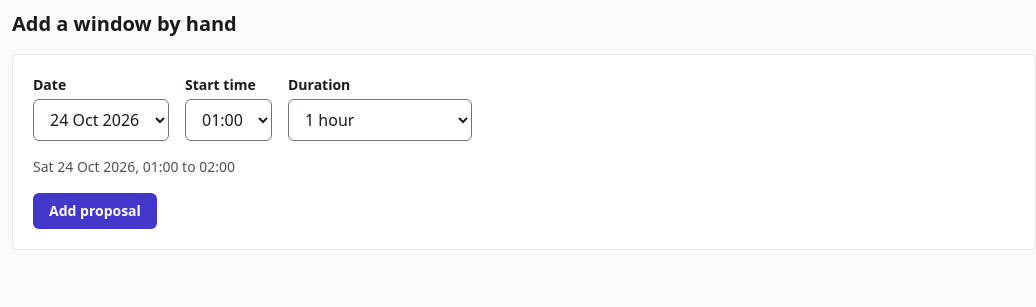
Test: ManualProposalForm › says the window is outside the group's window on slot_not_in_window
Click the button "Add proposal" at (95, 211), box [33,193,157,229]
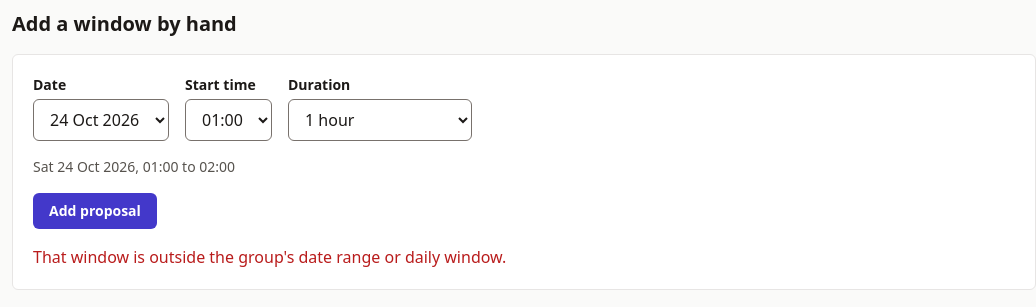
Expected: the text "That window is outside the group's date range or daily window." is shown, [33,246,506,268]
